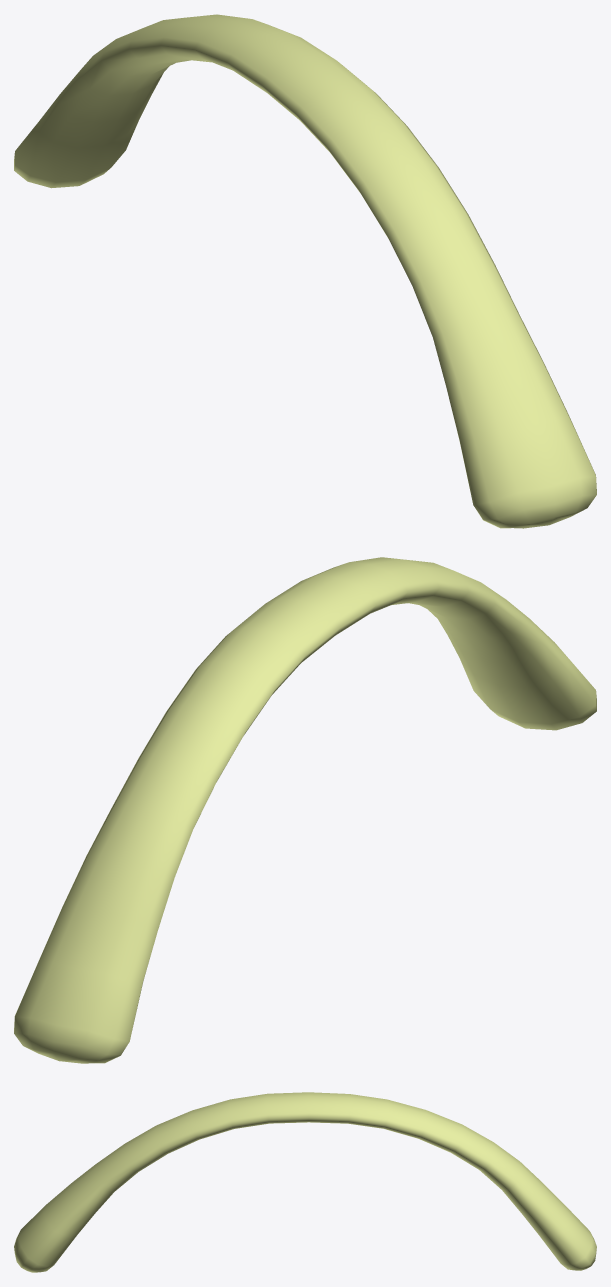
Rendered from Bone1_Bogdan.fbx.
The picture shows the model from 3 angles, top to bottom: view 1: azimuth 30°, elevation 25°; view 2: azimuth 150°, elevation 25°; view 3: azimuth 270°, elevation 25°; orthographic projection. The views are drawn at different scales.
Visible parts, largest first — view 1: Bone1; view 2: Bone1; view 3: Bone1.
Part boxes in pixels (x1=…): Bone1: x1=14, y1=14, x2=596, y2=528; Bone1: x1=14, y1=557, x2=596, y2=1063; Bone1: x1=14, y1=1092, x2=596, y2=1272.
Bounding box in the file's own units: 231 × 533 × 1644.
